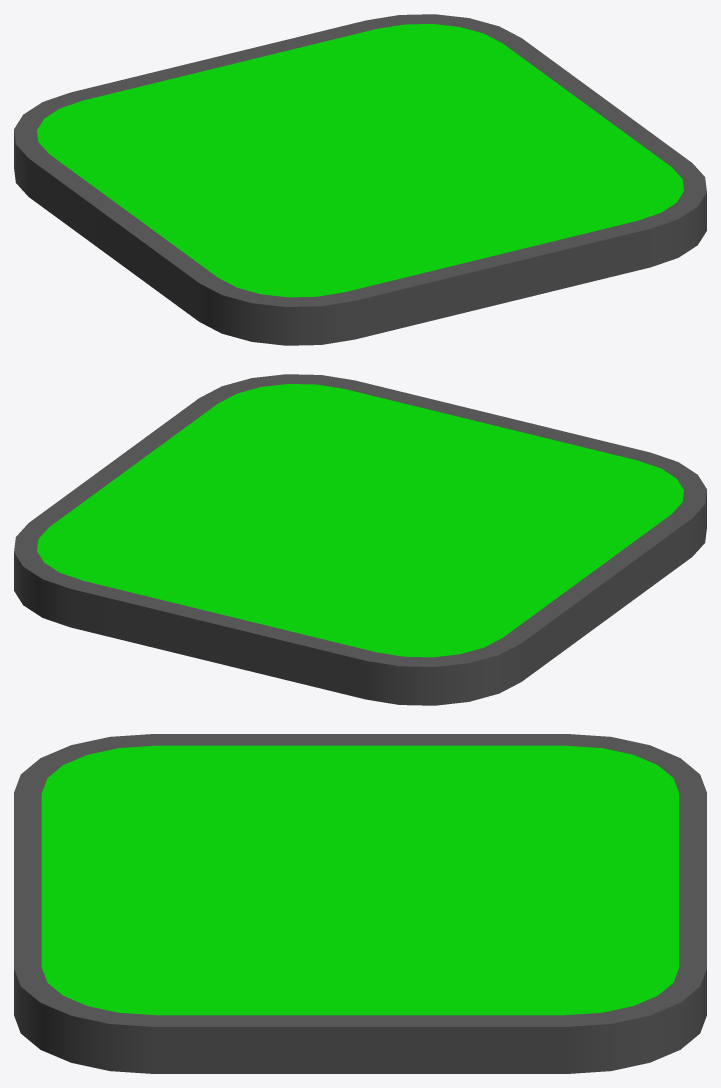
File: PAD01_LP_FBX.fbx
The picture shows the model from 3 angles, top to bottom: view 1: azimuth 30°, elevation 25°; view 2: azimuth 150°, elevation 25°; view 3: azimuth 270°, elevation 25°; orthographic projection. The views are drawn at different scales.
Visible parts, largest first — view 1: pCube18; view 2: pCube18; view 3: pCube18.
Boxes of the visible parts, x1,y1,x2,y2 form: pCube18: [14, 14, 706, 345]; pCube18: [14, 374, 706, 705]; pCube18: [14, 734, 706, 1073].
Bounding box in the file's own units: 200 × 15 × 200.
